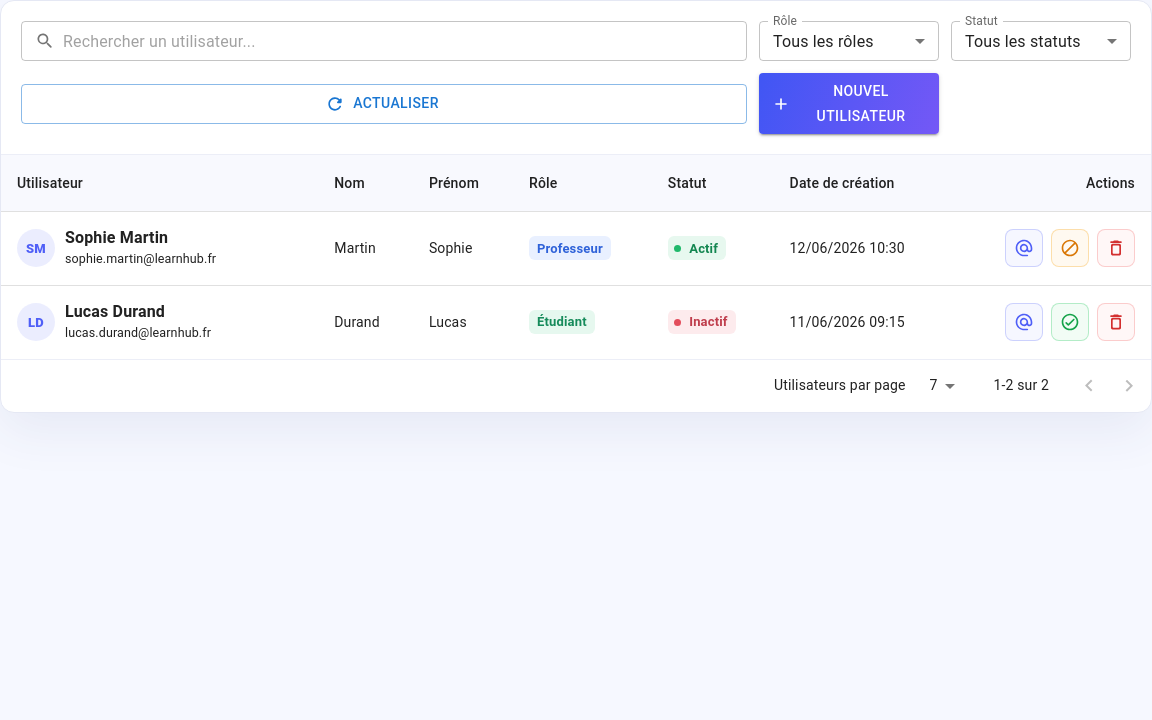
UsersList › demande confirmation puis supprime un utilisateur
The width and height of the screenshot is (1152, 720).
Click the button named "Supprimer Sophie Martin" at (1116, 248), box [1097,229,1135,267]
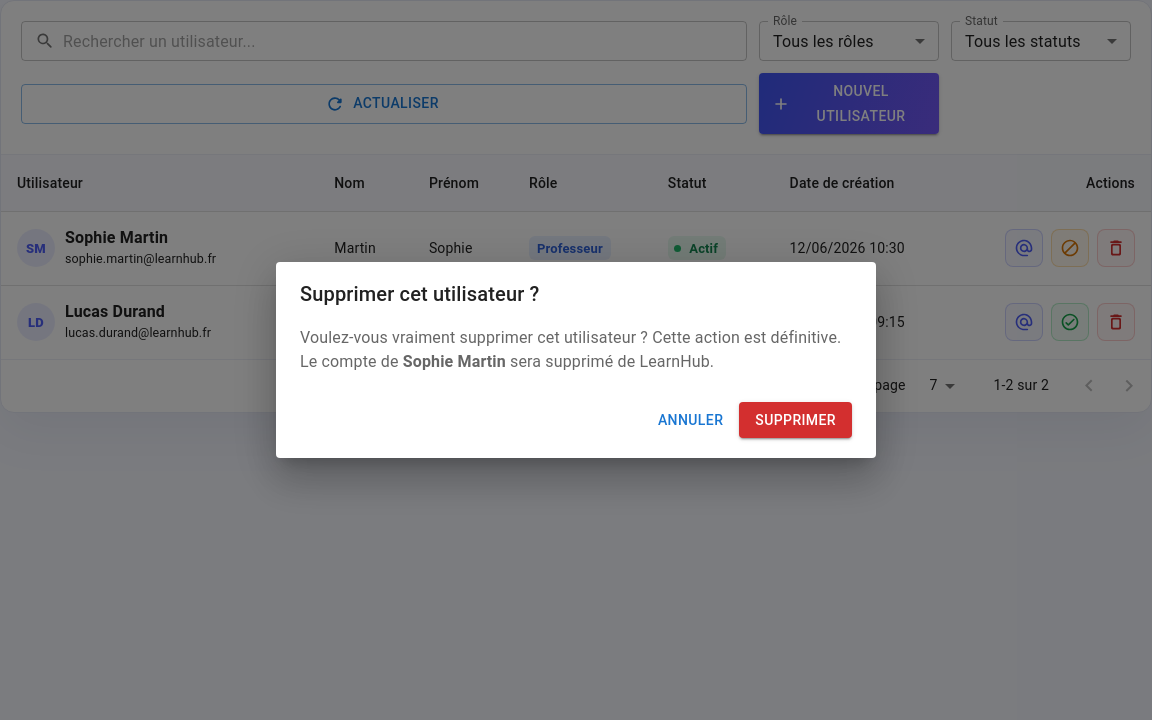
Check: the text "Voulez-vous vraiment supprimer cet utilisateur" is shown, box [300,328,841,371]
Click the button "Supprimer" at (796, 420), box [739,402,852,438]
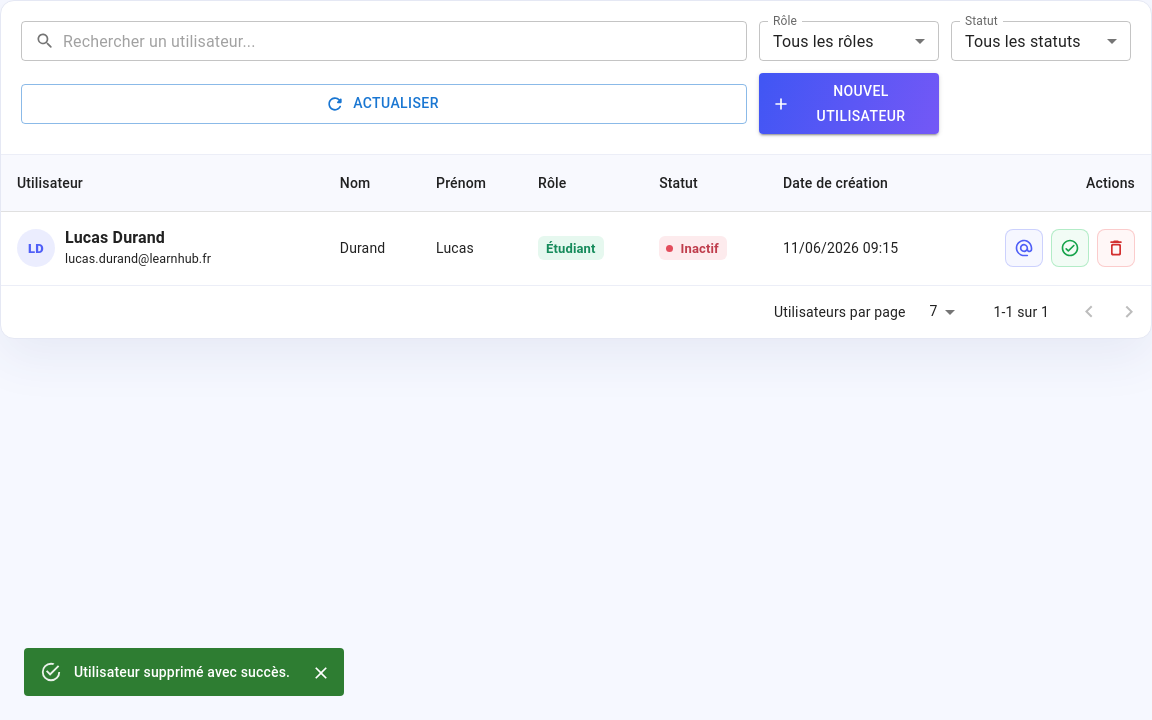
Check: the text "Sophie Martin" is gone
Check: the text "Utilisateur supprimé avec succès." is shown, box [74,664,290,680]
